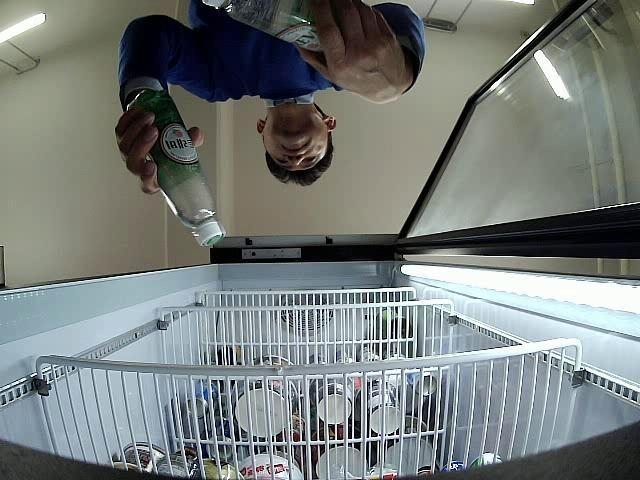18_trevi: (128, 89, 224, 248), (200, 0, 326, 55)
